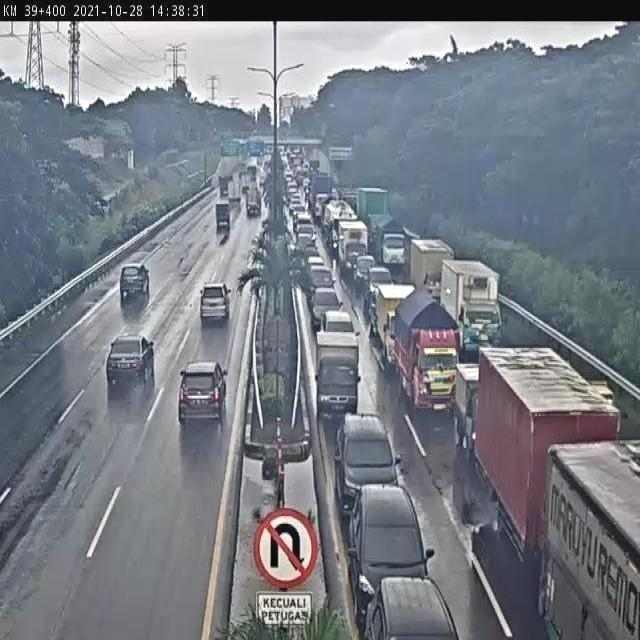Car: (346, 482, 435, 598), (332, 412, 404, 509), (365, 576, 462, 640), (175, 362, 231, 421), (106, 335, 157, 389), (199, 280, 232, 324), (363, 267, 394, 313), (118, 260, 151, 302), (310, 287, 343, 323), (320, 307, 357, 335)
Truck: (477, 346, 618, 557), (538, 441, 640, 640), (391, 289, 461, 412), (438, 258, 504, 350), (316, 330, 362, 416), (454, 358, 484, 459), (378, 281, 411, 358), (410, 242, 457, 288), (338, 220, 368, 283), (374, 213, 409, 264), (246, 185, 263, 218), (216, 200, 232, 233)
